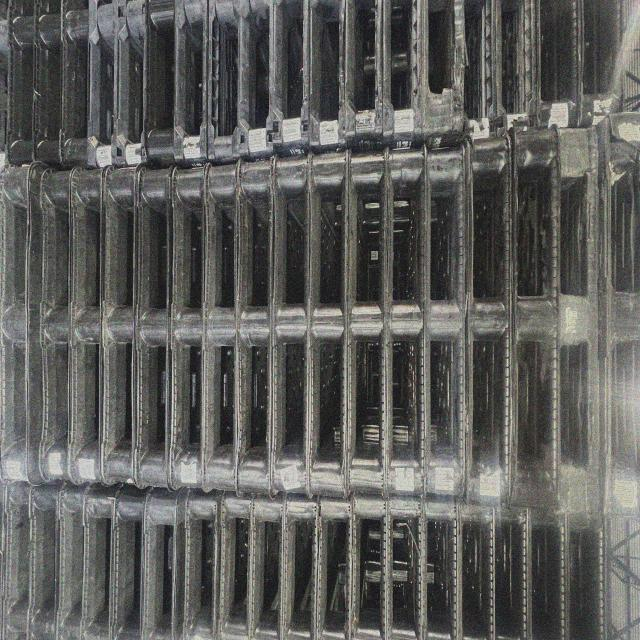igps: (557, 115, 605, 522), (466, 120, 514, 517), (512, 116, 556, 522), (422, 122, 467, 509), (600, 102, 640, 525), (384, 140, 426, 507), (348, 139, 389, 508), (308, 143, 349, 508), (272, 141, 312, 508), (170, 156, 210, 502), (237, 146, 274, 508), (103, 157, 141, 493), (204, 150, 240, 503), (136, 156, 173, 496), (37, 162, 75, 490), (69, 160, 104, 493), (0, 156, 33, 490), (144, 0, 182, 175), (307, 0, 348, 160), (344, 0, 385, 160), (384, 0, 425, 157), (271, 0, 310, 164), (174, 0, 210, 174), (581, 0, 627, 136), (0, 0, 35, 173), (420, 0, 459, 154), (538, 0, 582, 136), (561, 501, 604, 640), (144, 488, 183, 640), (351, 486, 389, 640), (387, 490, 426, 640), (493, 0, 533, 146), (525, 498, 565, 640), (315, 491, 353, 640), (62, 0, 94, 174), (424, 490, 461, 640), (243, 0, 276, 168), (81, 482, 116, 640), (210, 0, 242, 170), (219, 489, 255, 640), (284, 489, 320, 640), (87, 0, 118, 175), (458, 490, 494, 640), (114, 480, 147, 640), (118, 0, 148, 174), (0, 472, 31, 640), (186, 488, 220, 640), (34, 0, 63, 175), (492, 497, 527, 640), (252, 491, 285, 640), (464, 0, 497, 147), (58, 484, 87, 640), (32, 479, 59, 640)
